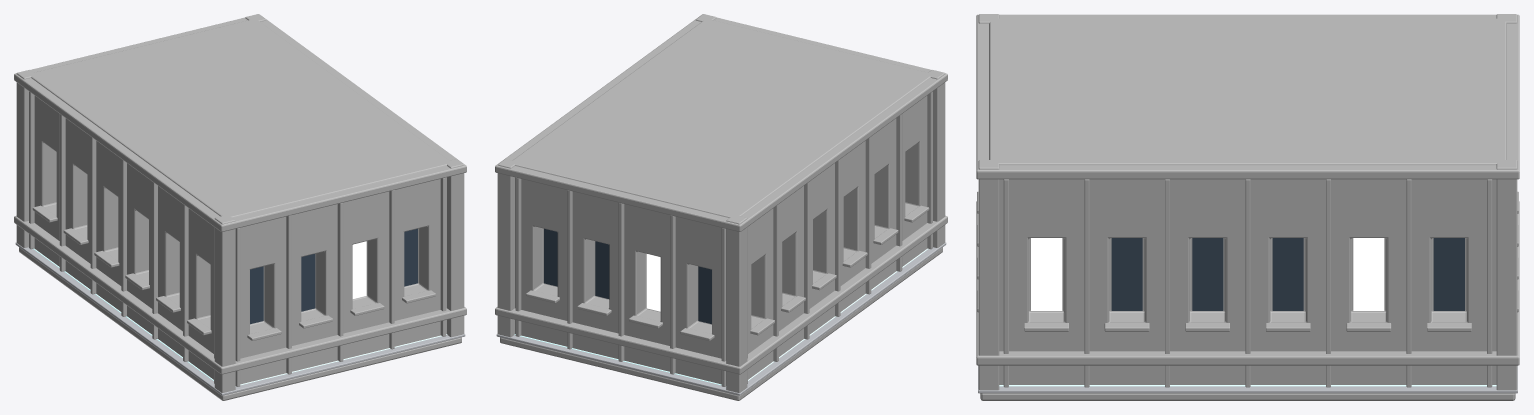
Rendered from concrete_4x6.glb.
3 views of the same model, side by side, from view 1: azimuth 30°, elevation 25°; view 2: azimuth 150°, elevation 25°; view 3: azimuth 270°, elevation 25° (orthographic). The views are drawn at different scales.
Parts seen in each view (by area): view 1: int_ceiling, ext_wall, ext_frames, int_columns, ext_ledge_top, ext_ledge_mid, int_slab_edge, int_slab, ext_panes_dark, ext_panes_lit, int_grid; view 2: int_ceiling, ext_wall, ext_frames, int_columns, ext_ledge_top, ext_ledge_mid, int_slab_edge, int_slab, ext_panes_dark, ext_panes_lit, int_grid; view 3: int_ceiling, ext_wall, ext_ledge_top, ext_frames, int_columns, ext_panes_dark, ext_ledge_mid, ext_panes_lit, int_slab, int_slab_edge, int_grid.
Part boxes in pixels (x1,y1,x2,y2): int_ceiling: [31, 19, 451, 217]; ext_wall: [34, 96, 446, 384]; ext_frames: [29, 91, 446, 386]; int_columns: [16, 14, 464, 392]; ext_ledge_top: [14, 14, 466, 231]; ext_ledge_mid: [14, 215, 466, 374]; int_slab_edge: [15, 242, 465, 395]; int_slab: [19, 247, 461, 400]; ext_panes_dark: [250, 228, 417, 324]; ext_panes_lit: [352, 241, 366, 298]; int_grid: [33, 248, 447, 385]; int_ceiling: [510, 19, 931, 217]; ext_wall: [515, 96, 927, 384]; ext_frames: [515, 91, 932, 386]; int_columns: [497, 14, 945, 392]; ext_ledge_top: [495, 14, 947, 231]; ext_ledge_mid: [495, 215, 947, 374]; int_slab_edge: [496, 242, 946, 395]; int_slab: [500, 247, 942, 400]; ext_panes_dark: [544, 228, 711, 324]; ext_panes_lit: [646, 254, 660, 311]; int_grid: [514, 248, 928, 385]; int_ceiling: [989, 18, 1506, 165]; ext_wall: [999, 179, 1496, 384]; ext_ledge_top: [976, 14, 1519, 179]; ext_frames: [977, 179, 1518, 387]; int_columns: [978, 14, 1517, 390]; ext_panes_dark: [1111, 238, 1464, 310]; ext_ledge_mid: [976, 201, 1519, 365]; ext_panes_lit: [1031, 238, 1384, 310]; int_slab: [980, 393, 1515, 400]; int_slab_edge: [978, 365, 1517, 393]; int_grid: [999, 385, 1496, 386].
Size of the model in its own units: 4.3 by 3 by 6.3.
